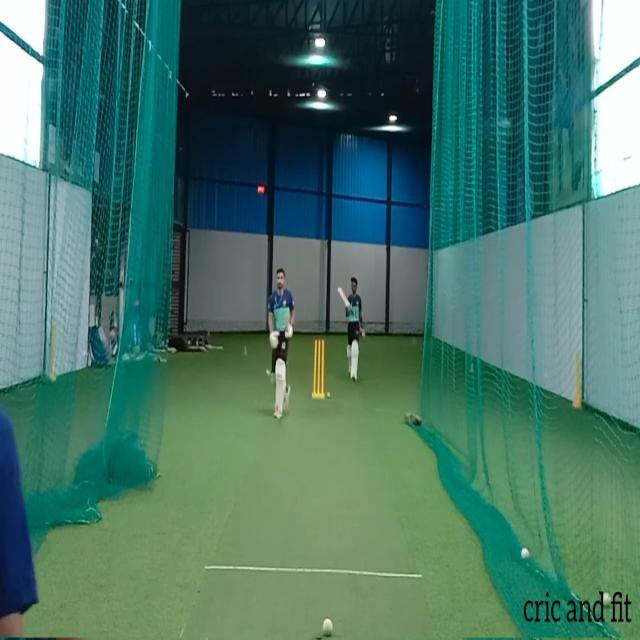batsman: (266, 266, 296, 422)
